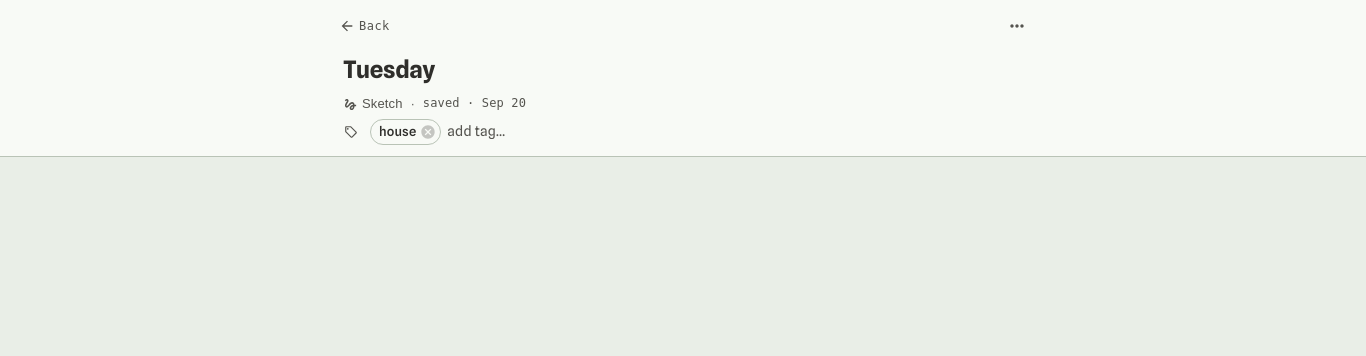
Test: the ⋯ entry › is disabled on an empty sketch
Step 1. Click the button named "More note actions" → (1017, 26), box [1001,10,1033,42]
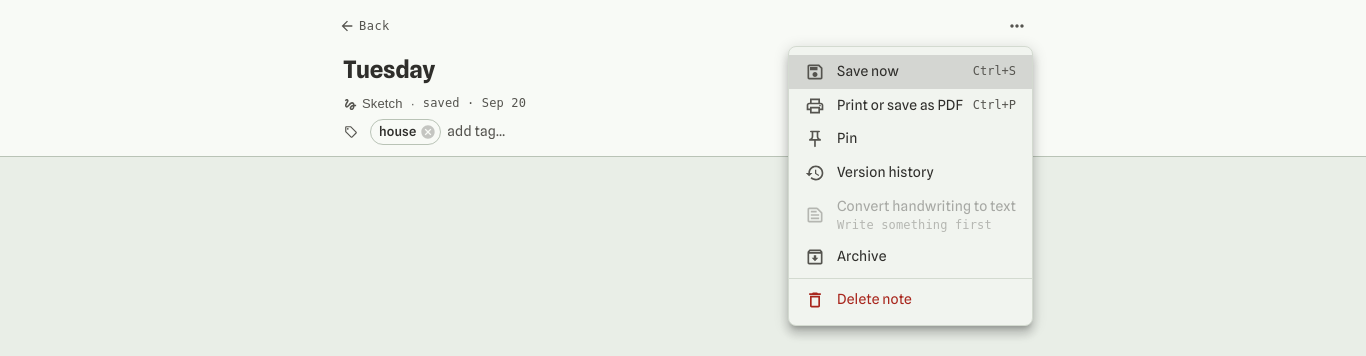
expect the text "Write something first" is shown: met, box [837,217,1016,234]
